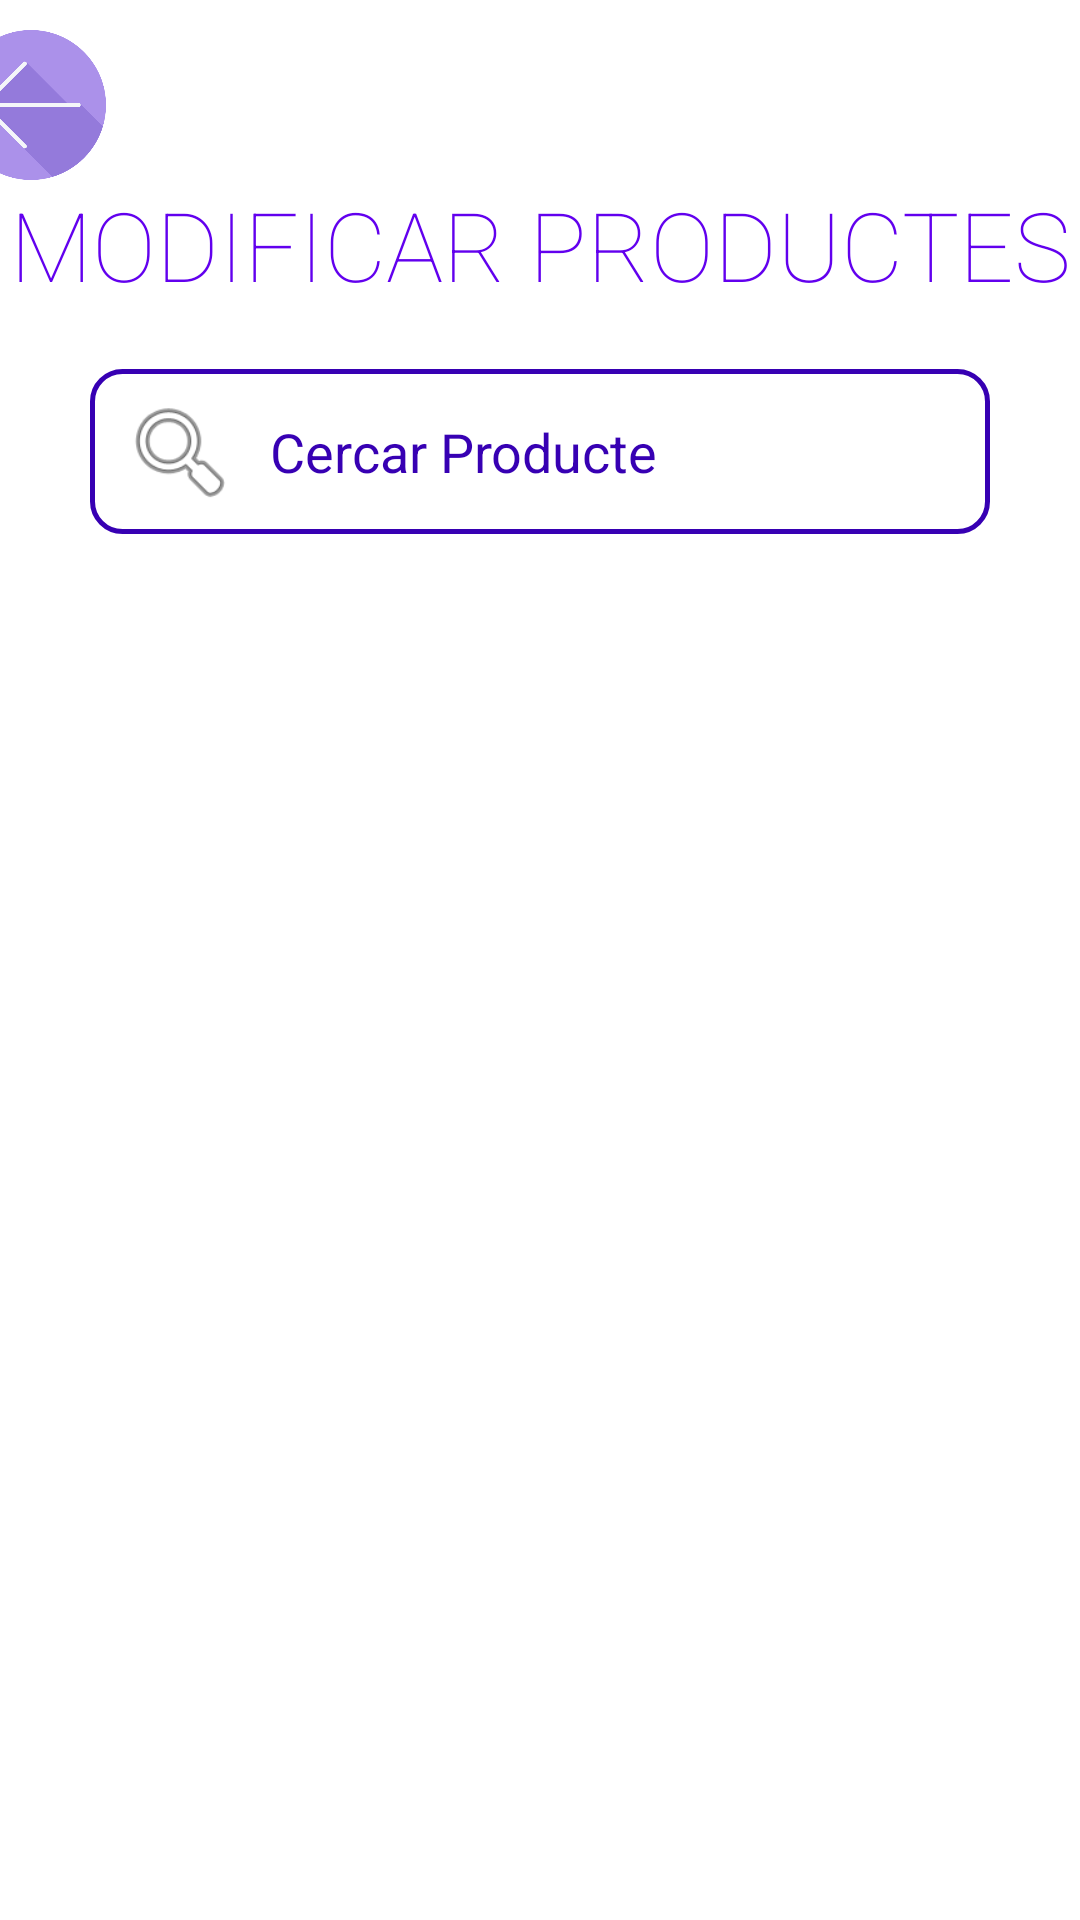

Point at icon controls on the screen. Image size 1080×1920, points as [x,y].
search: [179,452]
